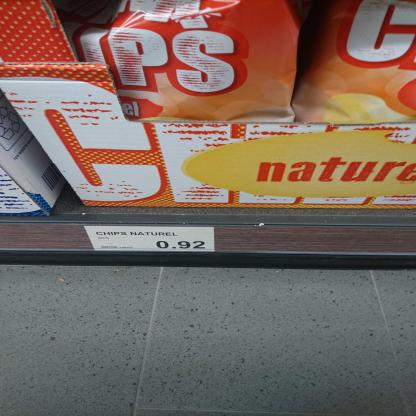prtg: (84, 227, 216, 253)
